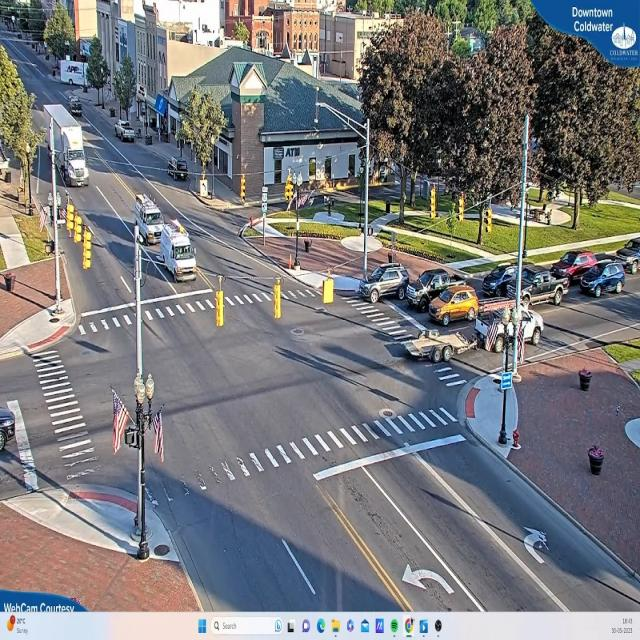car: (483, 268, 562, 306), (133, 196, 171, 246), (431, 288, 480, 325), (363, 267, 410, 304), (551, 252, 600, 280), (117, 121, 138, 143)
motorbike: (580, 262, 628, 298)
truck: (50, 115, 90, 188), (59, 61, 89, 88)
